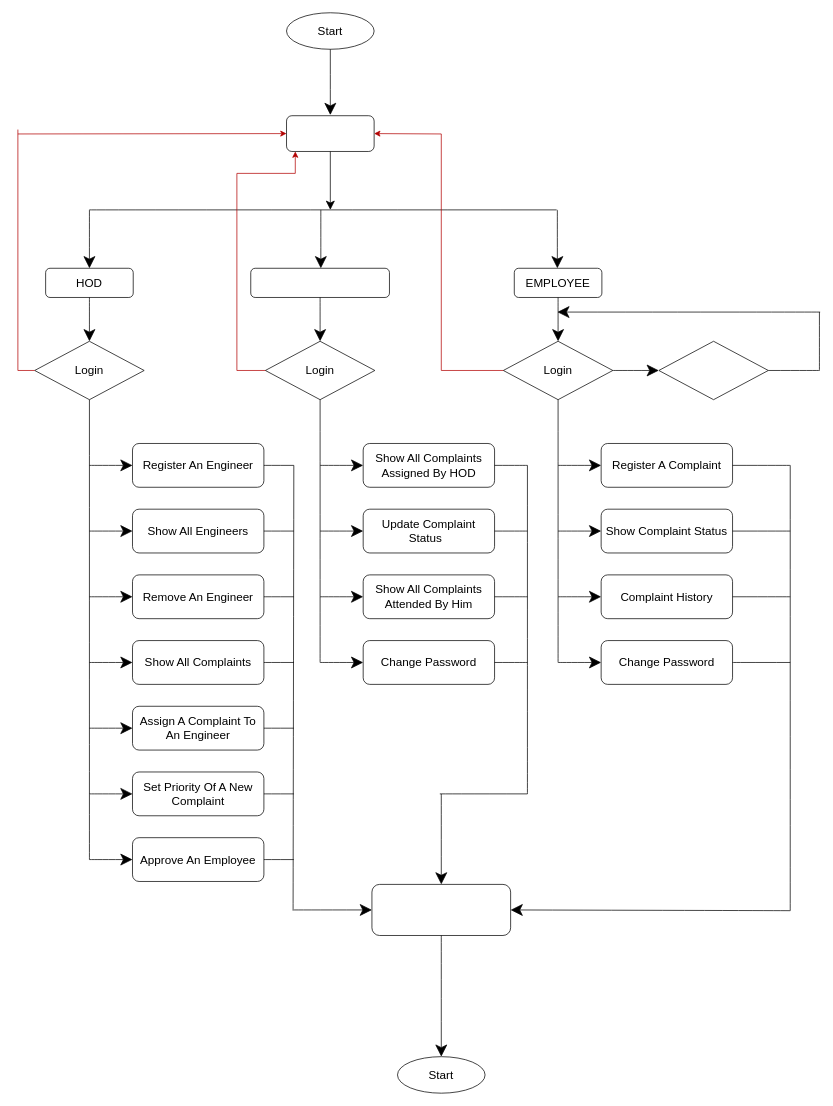
This 833x1106 diagram has some shape labels left out. The shapes that lost their labels are listed below. From the top down, each one's centre as x and y in pixels, then its label:
(330,133): HOME
(319,282): ENGINEER
(713,370): Register
(441,909): Exit
